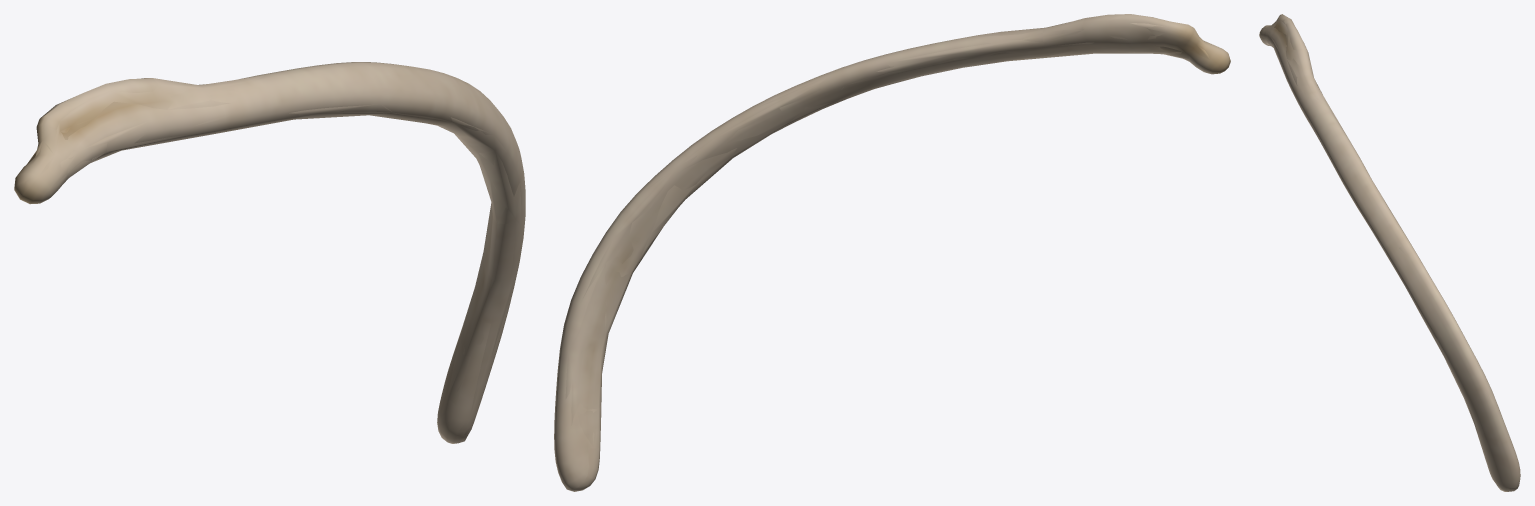
File: Rib L18.fbx
3 renders of one model, left to right at view 1: azimuth 30°, elevation 25°; view 2: azimuth 150°, elevation 25°; view 3: azimuth 270°, elevation 25°, orthographic. The views are drawn at different scales.
Parts seen in each view (by area): view 1: Rib L18, Rib L18 low; view 2: Rib L18, Rib L18 low; view 3: Rib L18, Rib L18 low.
Boxes of the visible parts, x1,y1,x2,y2 form: Rib L18: [14, 62, 525, 443]; Rib L18 low: [15, 75, 523, 440]; Rib L18: [554, 14, 1230, 491]; Rib L18 low: [560, 14, 1229, 488]; Rib L18: [1259, 14, 1520, 491]; Rib L18 low: [1260, 18, 1508, 491].
Bounding box in the file's own units: 26.44 × 22.96 × 16.69.
1 material, 1 textured.
